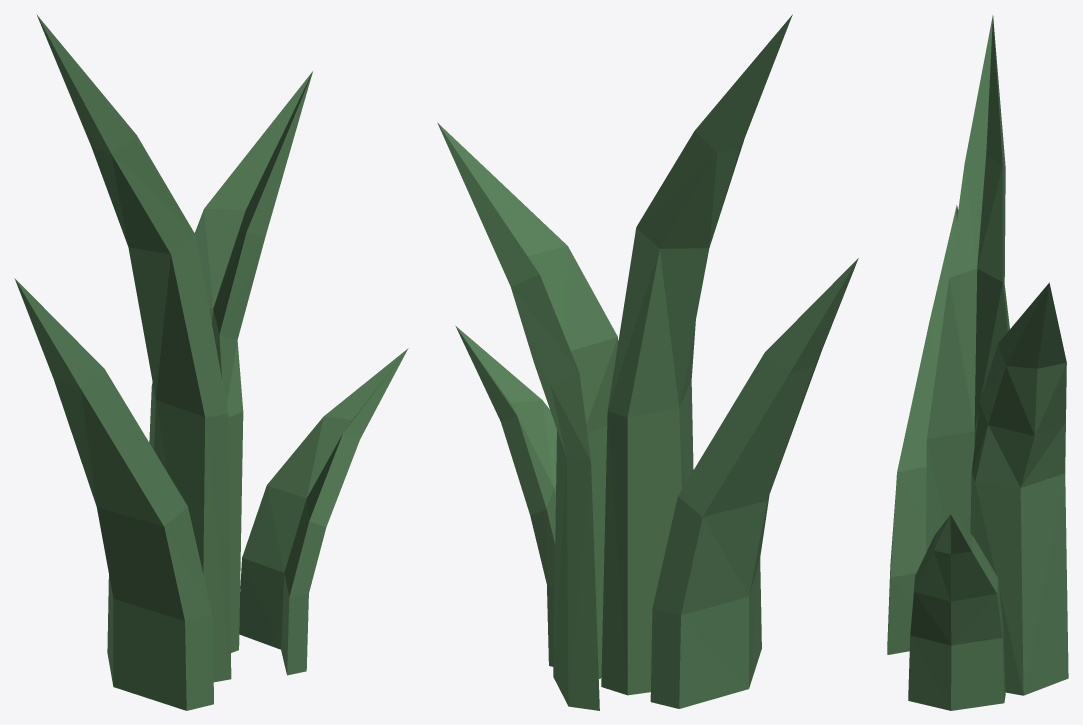
File: grass_2.obj
3 views of the same model, side by side, from view 1: azimuth 30°, elevation 25°; view 2: azimuth 150°, elevation 25°; view 3: azimuth 270°, elevation 25° (orthographic). The views are drawn at different scales.
Visible parts, largest first — view 1: grass_2; view 2: grass_2; view 3: grass_2.
Boxes of the visible parts, x1,y1,x2,y2 form: grass_2: (14, 14, 408, 710); grass_2: (437, 14, 858, 710); grass_2: (887, 15, 1068, 710).
Bounding box in the file's own units: 0.6431 × 1.06 × 0.2948.
